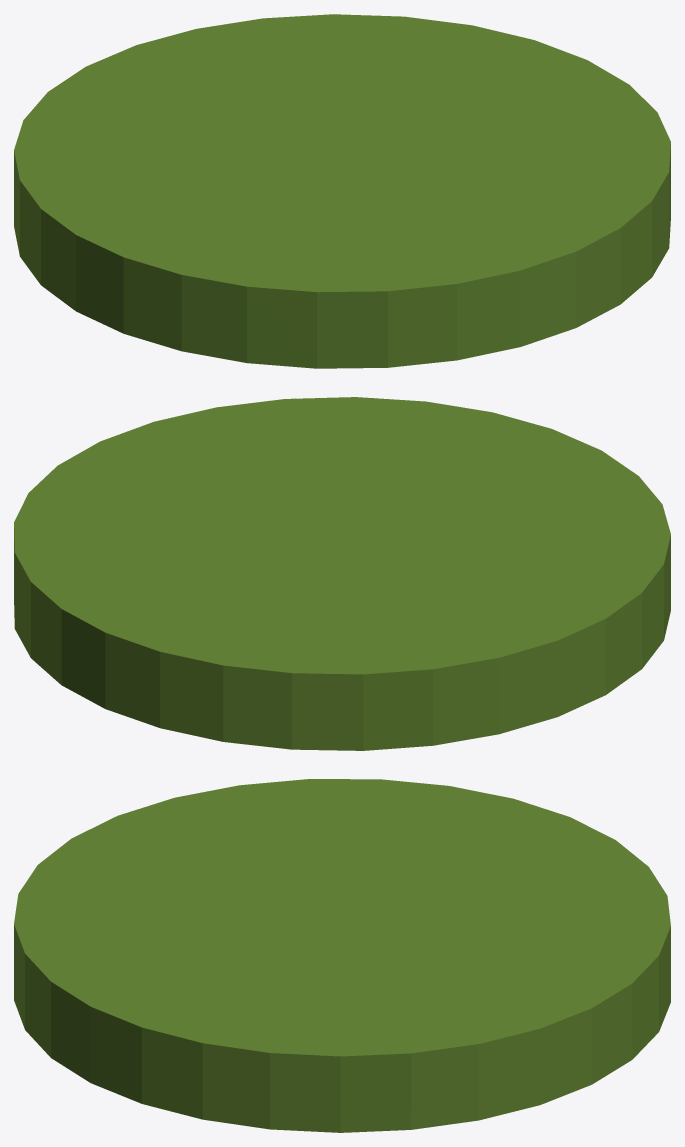
Rendered from Statue11 Stand.fbx.
3 views of the same model, one above another, from view 1: azimuth 30°, elevation 25°; view 2: azimuth 150°, elevation 25°; view 3: azimuth 270°, elevation 25° (orthographic).
Parts seen in each view (by area): view 1: stupeni Mesh (1); view 2: stupeni Mesh (1); view 3: stupeni Mesh (1).
Boxes of the visible parts, <box> form: stupeni Mesh (1): <box>14,14,670,368</box>; stupeni Mesh (1): <box>14,397,670,750</box>; stupeni Mesh (1): <box>14,779,670,1132</box>.
Bounding box in the file's own units: 5 × 0.6424 × 5.
